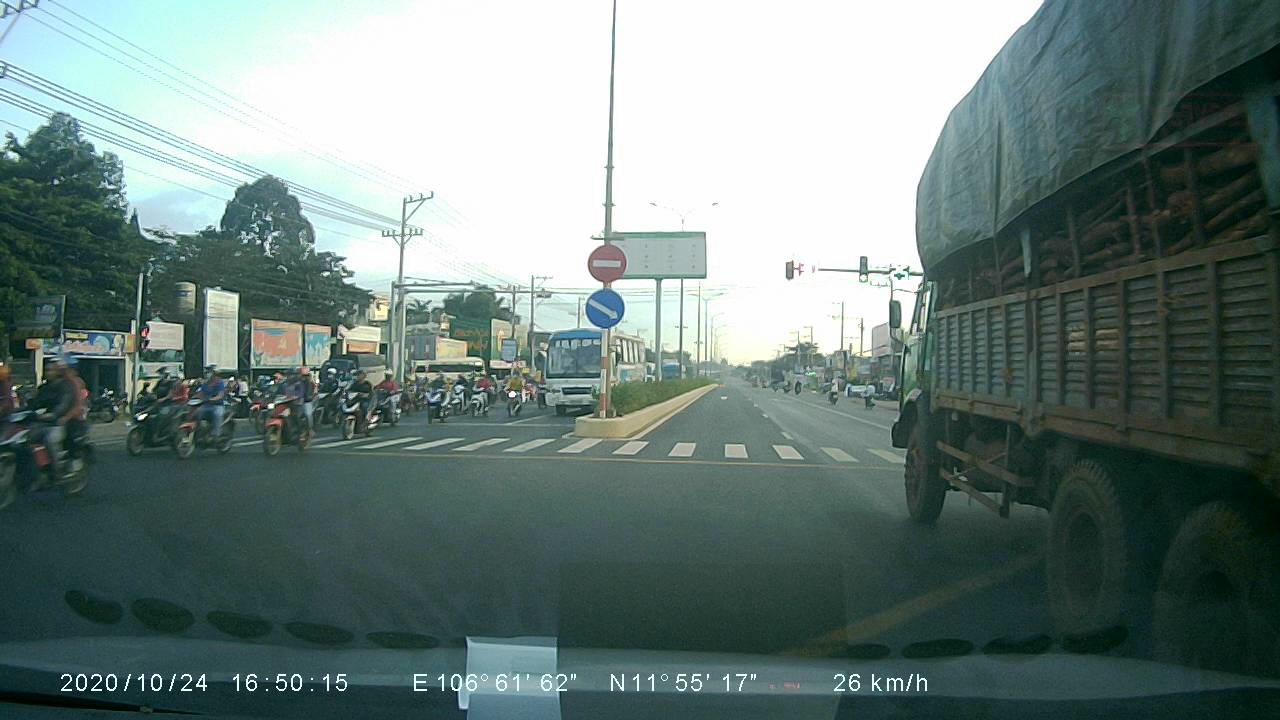Cam di nguoc chieu: (586, 241, 630, 282)
Huong di phai re phai: (583, 288, 626, 333)
